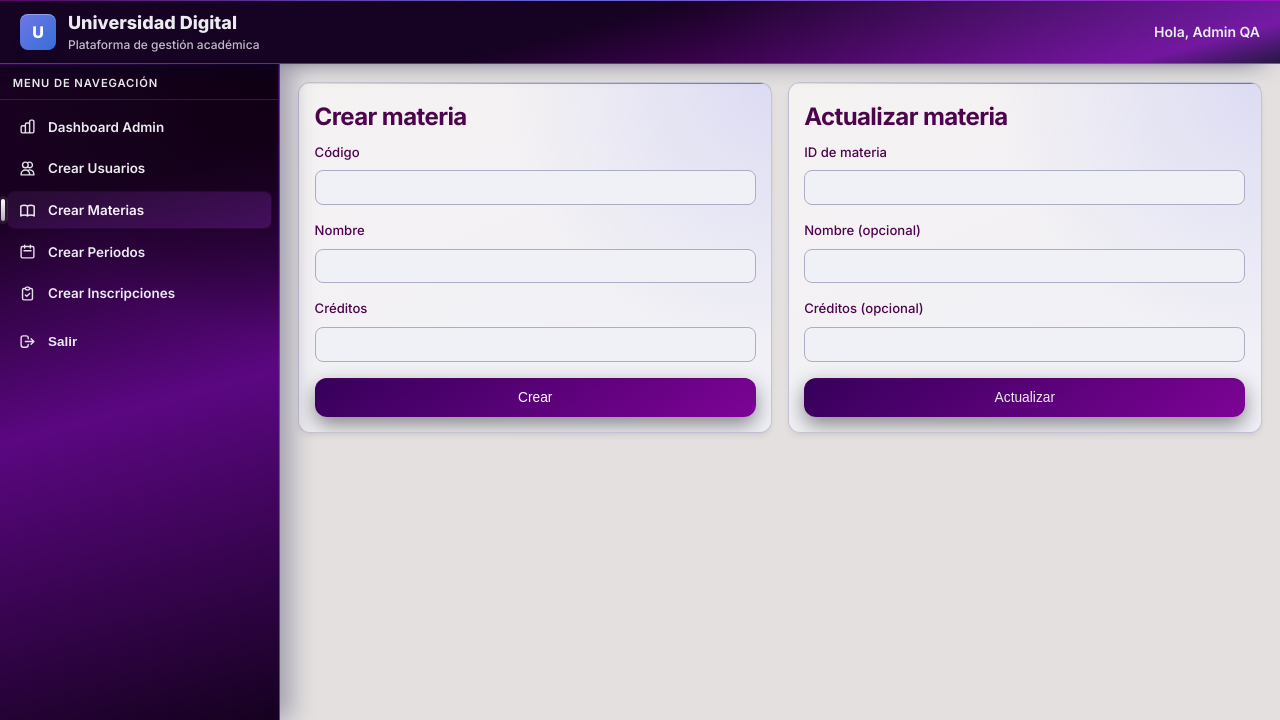
Test: Materias — Gestión básica › crea materia con payload válido
Type "MAT101" into the field named "code" at (536, 188), box x1=315 y1=170 x2=756 y2=205
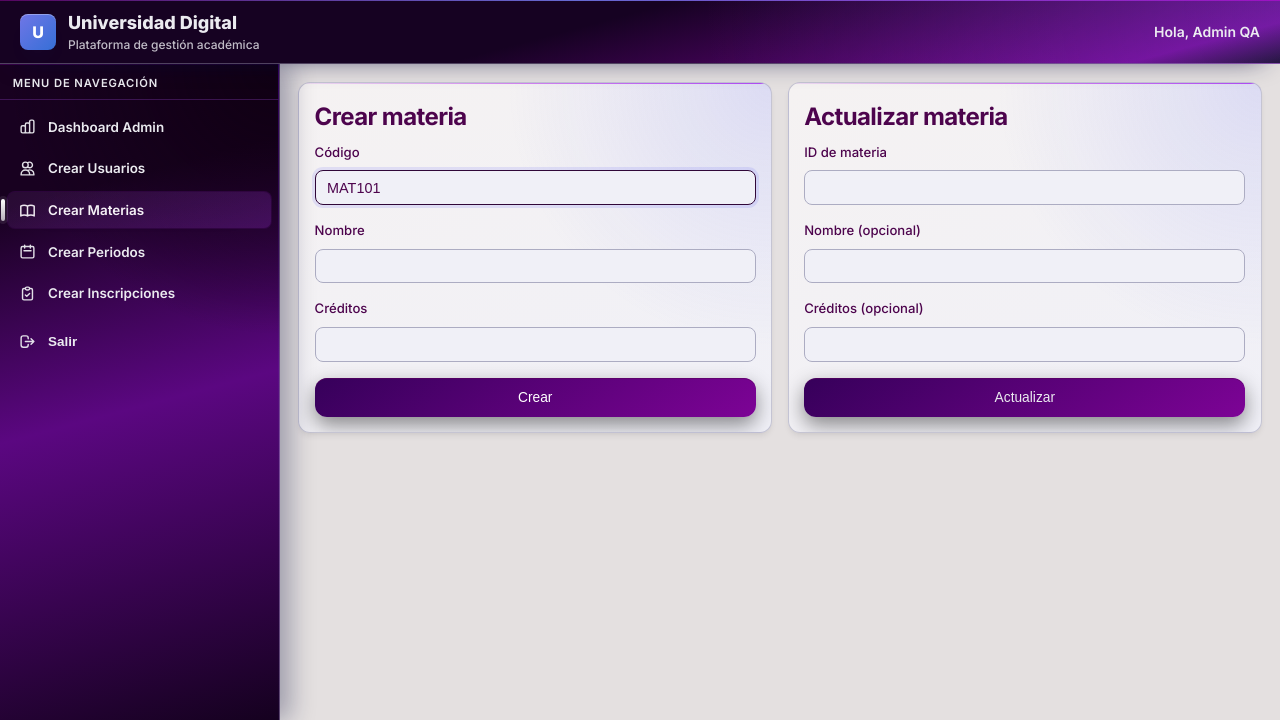
Type "Álgebra Lineal" into the field named "name" at (536, 267), box x1=315 y1=249 x2=756 y2=284
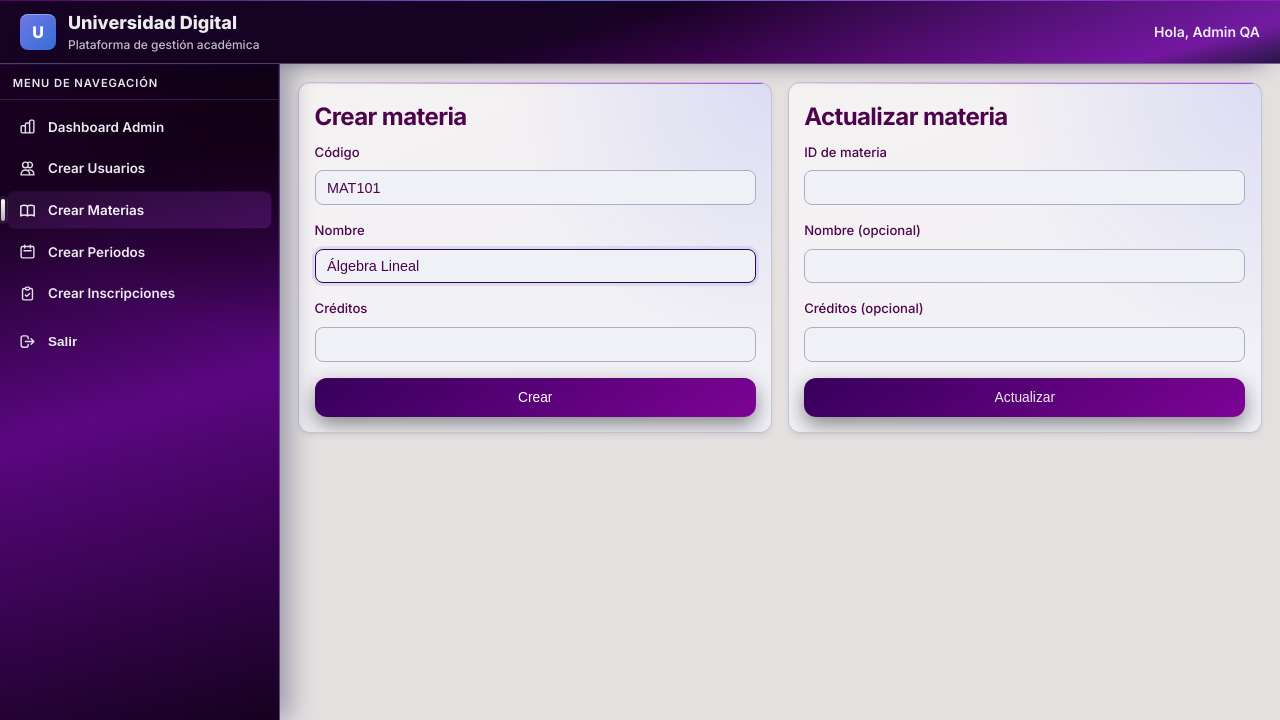
Type "4" into the number field named "credits" at (536, 345), box x1=315 y1=327 x2=756 y2=362
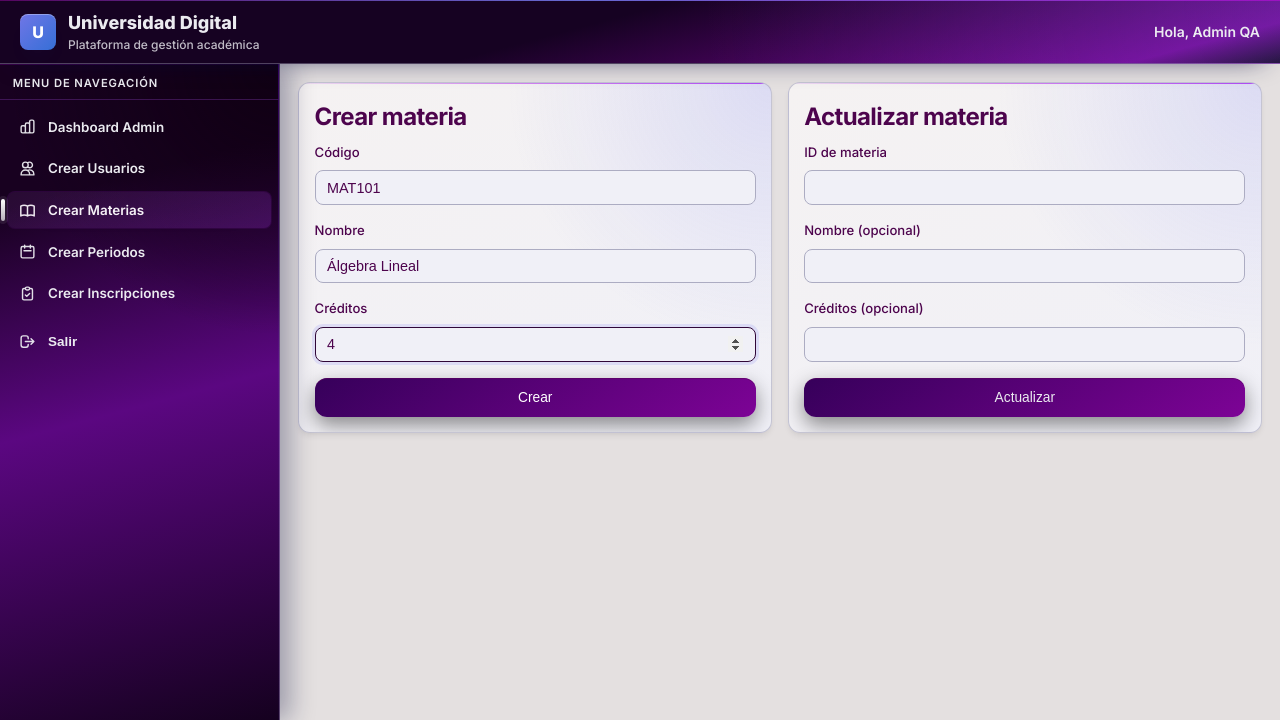
Click the button "Crear" at (536, 398), box x1=315 y1=378 x2=756 y2=417
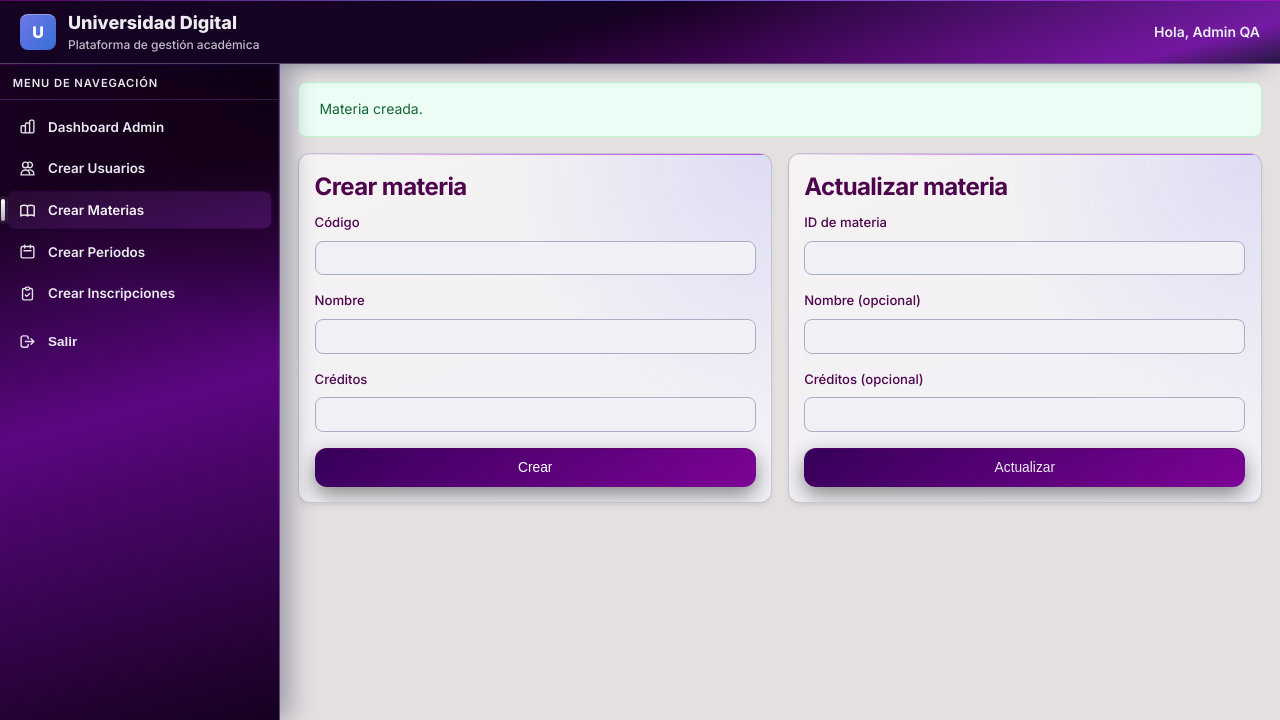
Now the text "Materia creada." is shown, box x1=298 y1=82 x2=1262 y2=137
